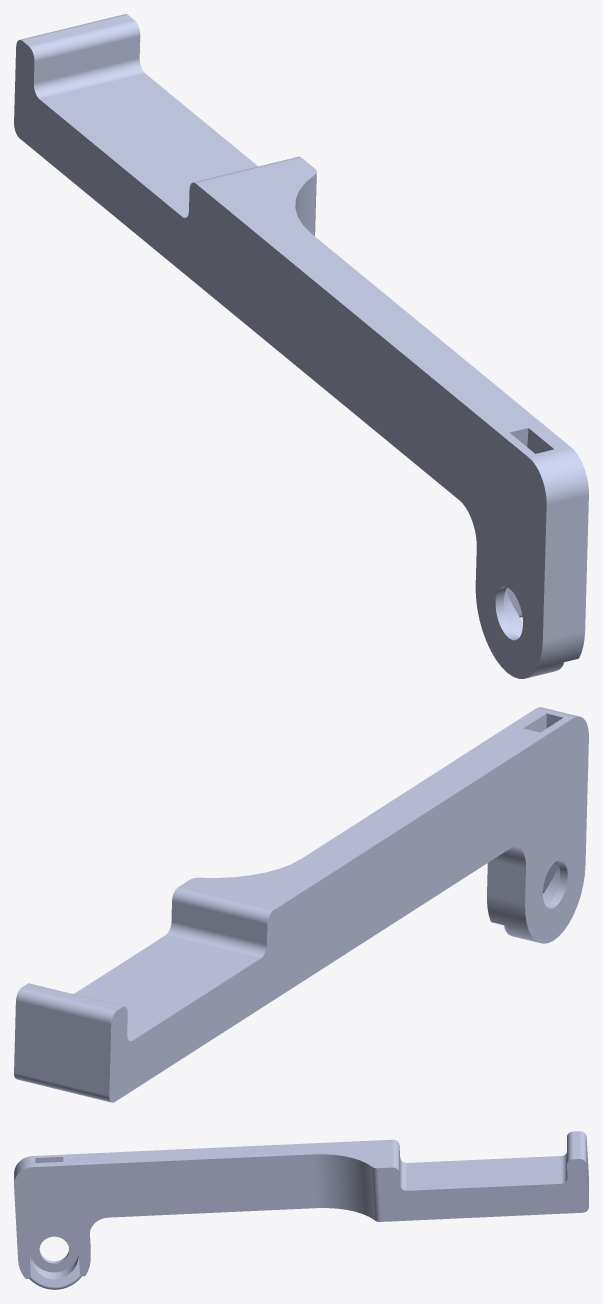
3 renders of one model, top to bottom at view 1: azimuth 30°, elevation 25°; view 2: azimuth 150°, elevation 25°; view 3: azimuth 270°, elevation 25°, orthographic. The views are drawn at different scales.
Parts seen in each view (by area): view 1: NAUO1; view 2: NAUO1; view 3: NAUO1.
Part boxes in pixels (x1,y1,x2,y2): NAUO1: (14,14,588,678); NAUO1: (14,707,588,1102); NAUO1: (14,1131,588,1289).
Bounding box in the file's own units: 0.01 × 0.025 × 0.0871.
